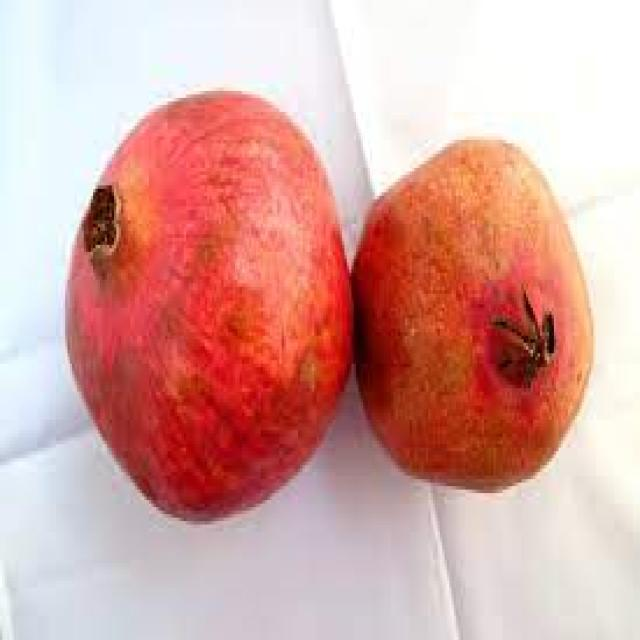overripe: (60, 92, 358, 530), (353, 130, 598, 500)
